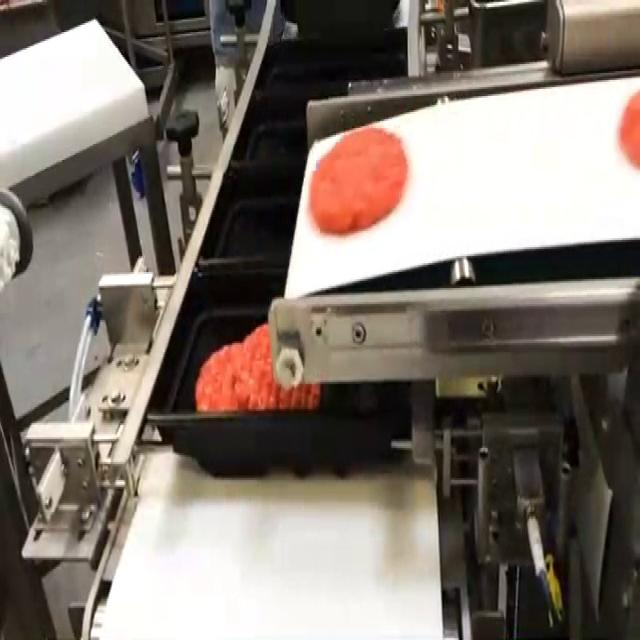hamburguer: (309, 130, 407, 233)
